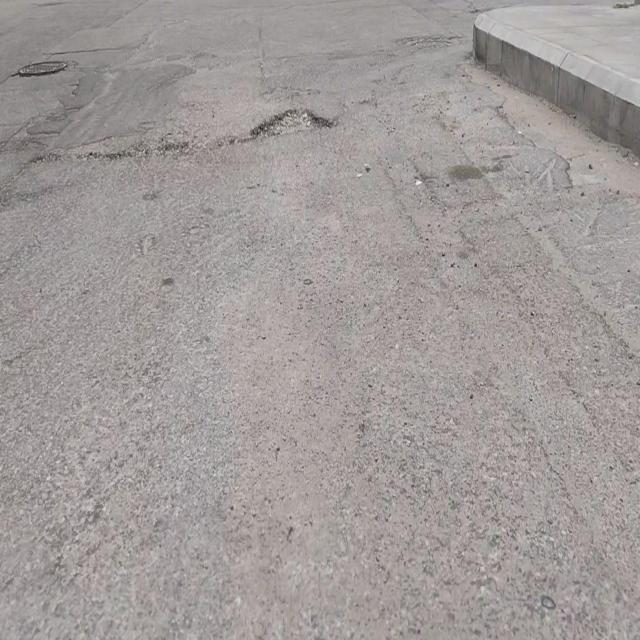Potholes: (248, 105, 333, 142)
